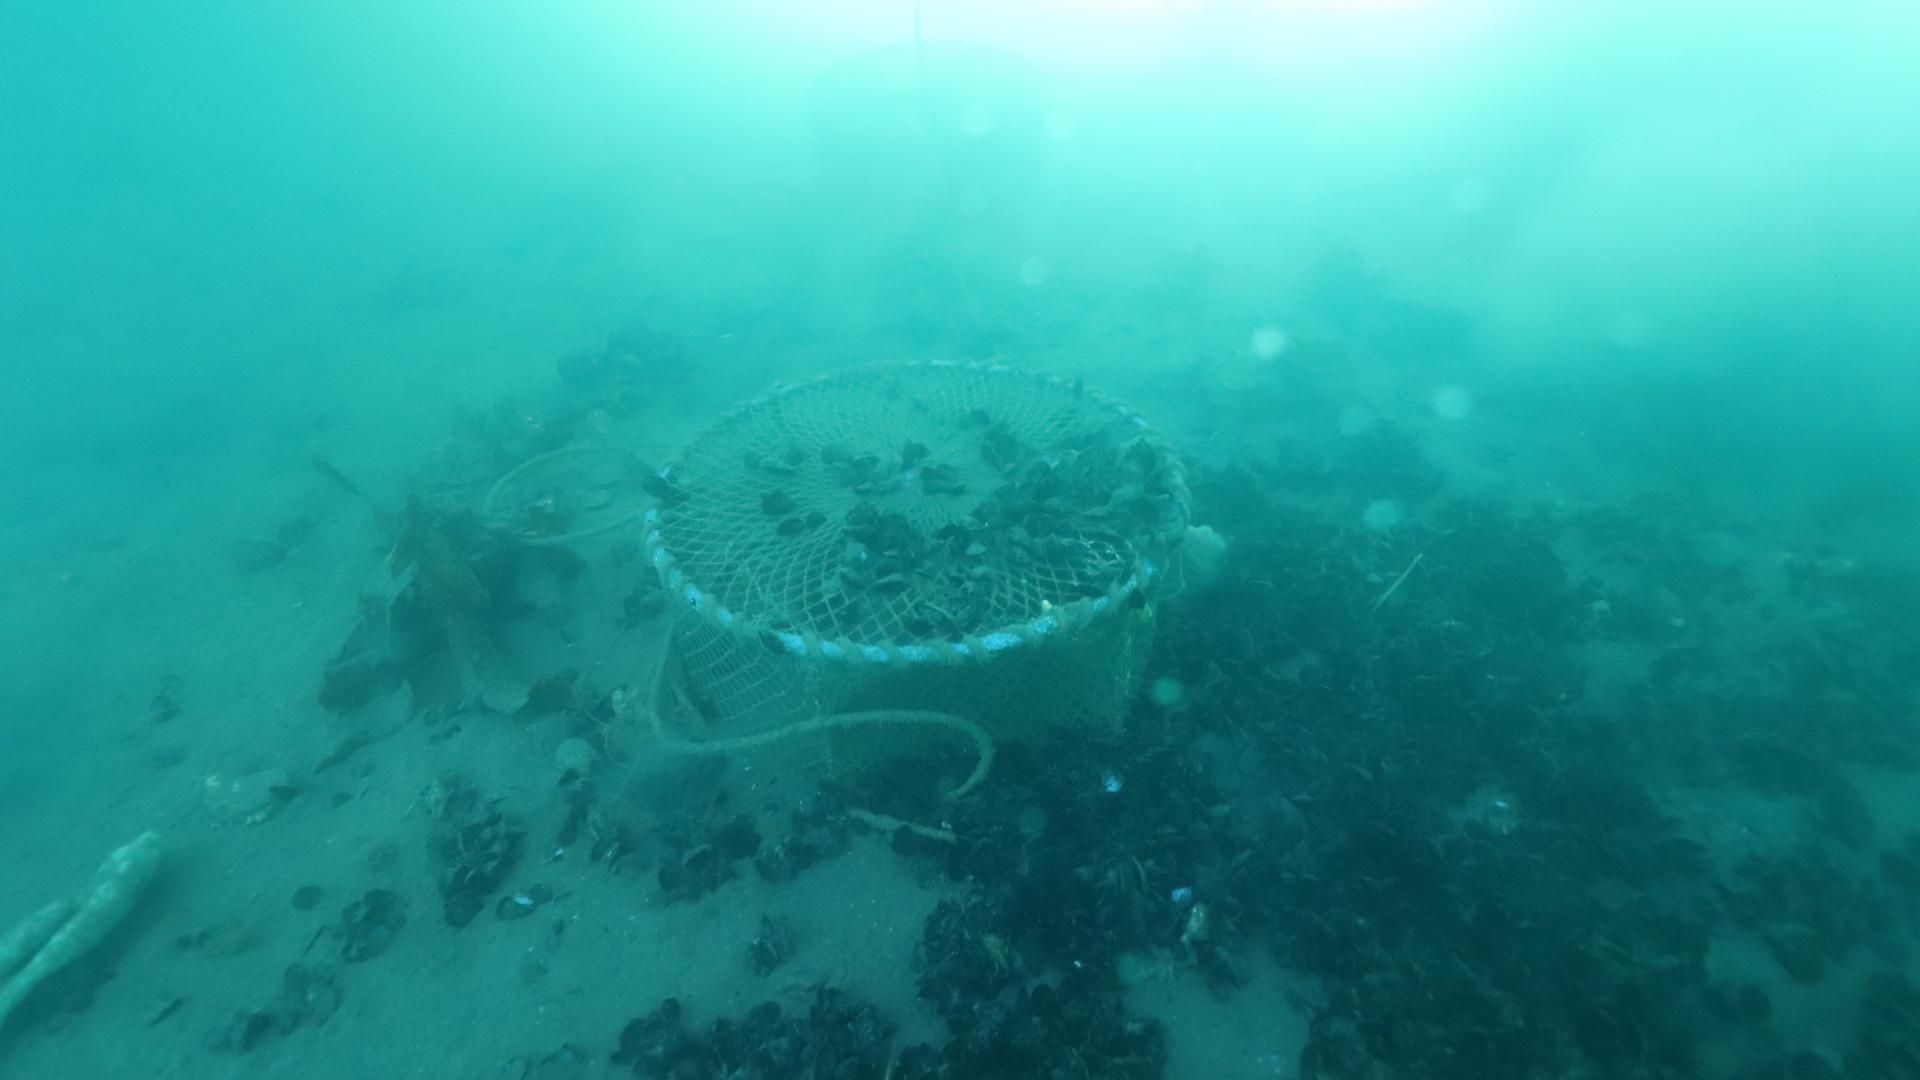bundle of ropes: (473, 438, 680, 553)
circular fish trap: (640, 349, 1193, 789)
rope: (644, 593, 998, 803), (840, 804, 982, 847)
